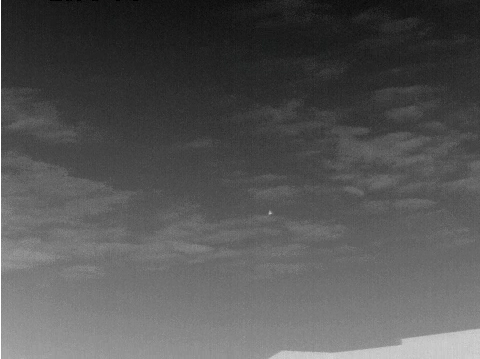dim target: (267, 210, 273, 216)
